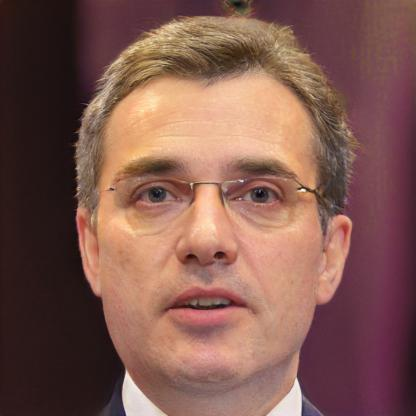glasses: (96, 172, 318, 222)
